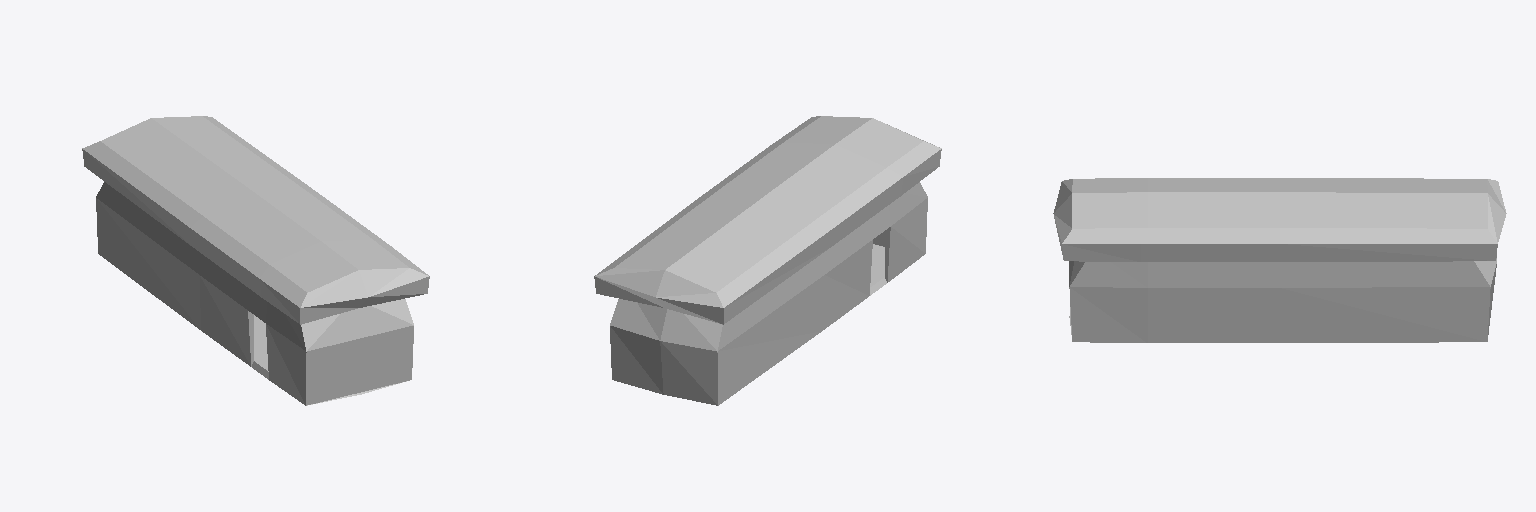
File: Church_Temp_Modded.obj
The picture shows the model from 3 angles: view 1: azimuth 30°, elevation 25°; view 2: azimuth 150°, elevation 25°; view 3: azimuth 270°, elevation 25°; orthographic projection.
Visible parts, largest first — view 1: Cube; view 2: Cube; view 3: Cube.
Boxes of the visible parts, <box> form: Cube: <box>82,116,429,405</box>; Cube: <box>594,116,941,405</box>; Cube: <box>1053,178,1506,342</box>.
Bounding box in the file's own units: 2.66 × 2.44 × 7.9.